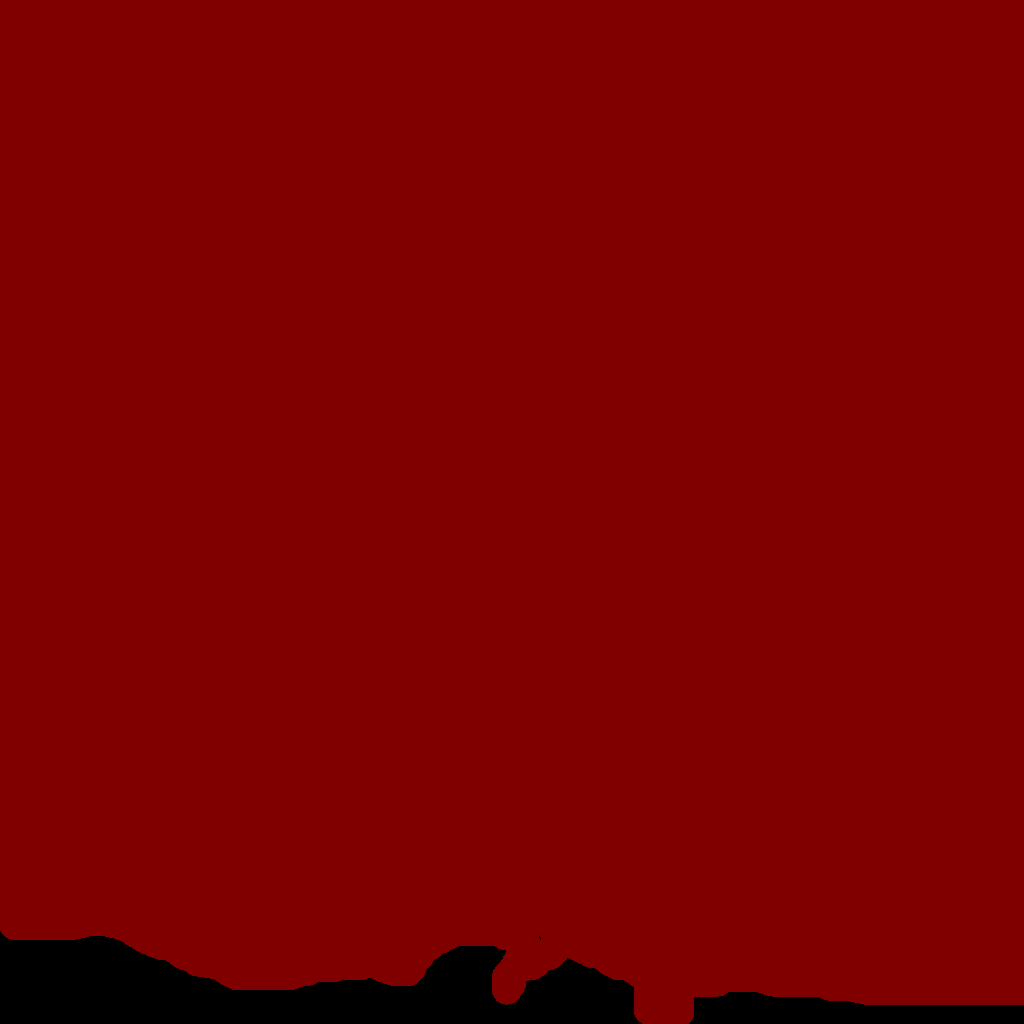Sky: (1, 1, 1023, 1023)
